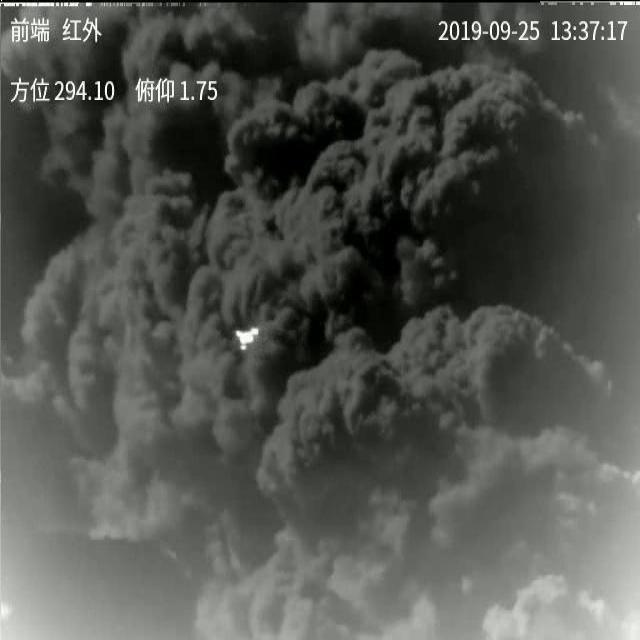drone: (234, 326, 262, 352)
